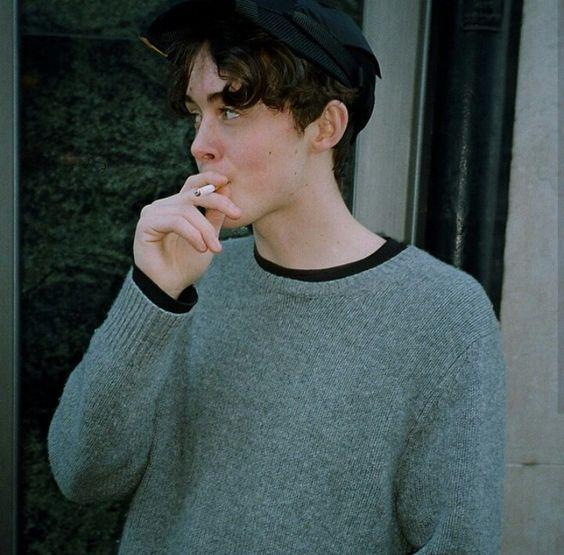cigarette: (193, 184, 216, 197)
